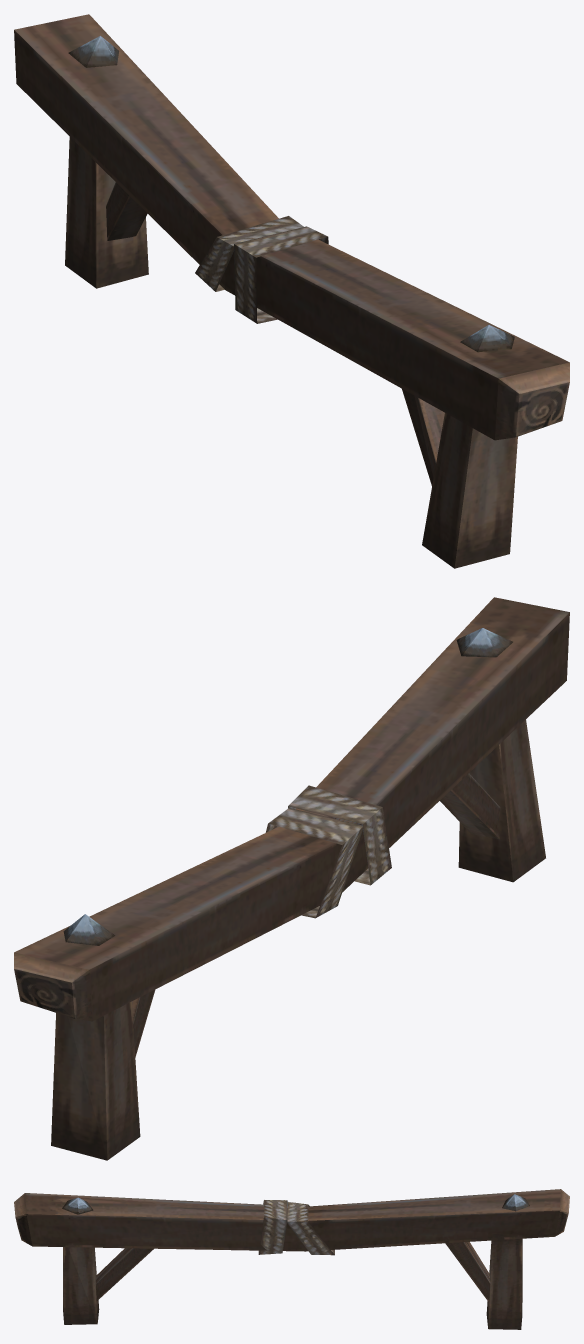
The model's file is mine_railing_large.fbx.
3 views of the same model, one above another, from view 1: azimuth 30°, elevation 25°; view 2: azimuth 150°, elevation 25°; view 3: azimuth 270°, elevation 25° (orthographic). The views are drawn at different scales.
Parts seen in each view (by area): view 1: obj1.003; view 2: obj1.003; view 3: obj1.003.
Part boxes in pixels (x1,y1,x2,y2): obj1.003: (14, 14, 569, 568); obj1.003: (14, 597, 569, 1160); obj1.003: (14, 1189, 569, 1329).
Bounding box in the file's own units: 0.7764 × 1.58 × 6.2.
